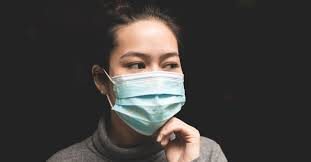surgical: (106, 71, 189, 138)
